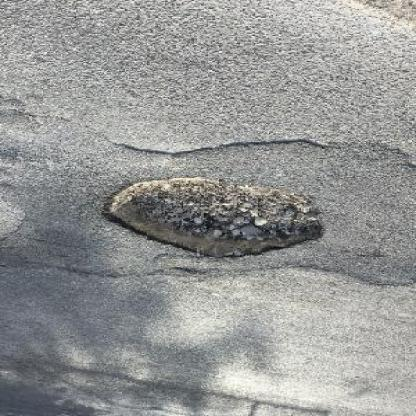pothole: (98, 179, 327, 265)
